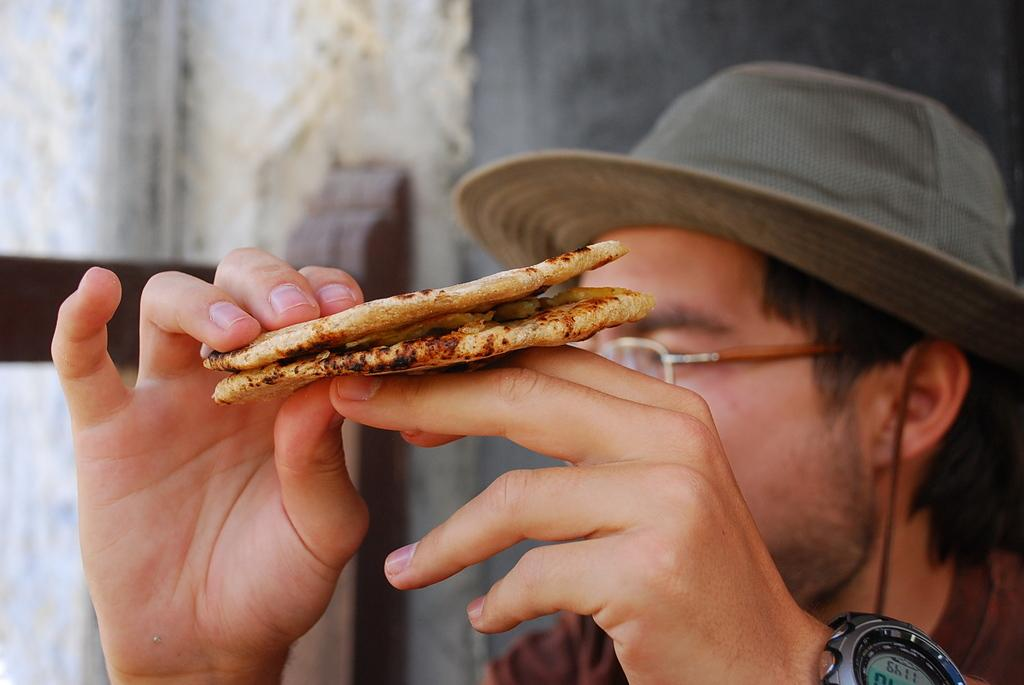Hat: (453, 57, 1023, 363)
